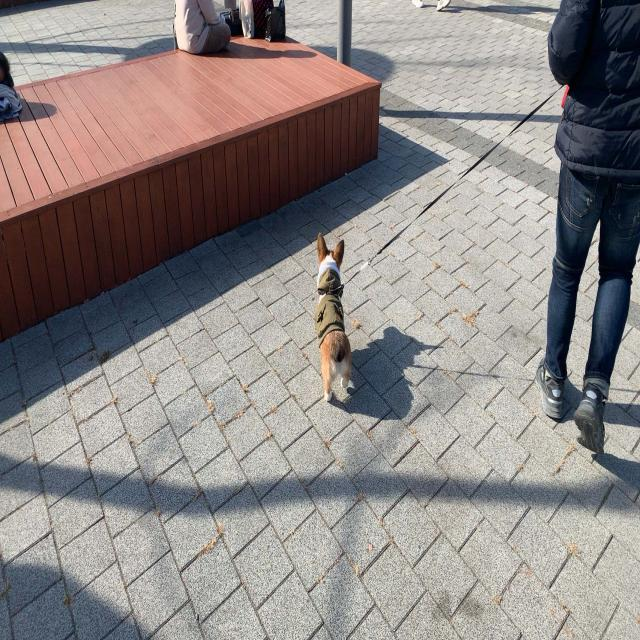Leashed_Dog: (314, 68, 588, 407)
